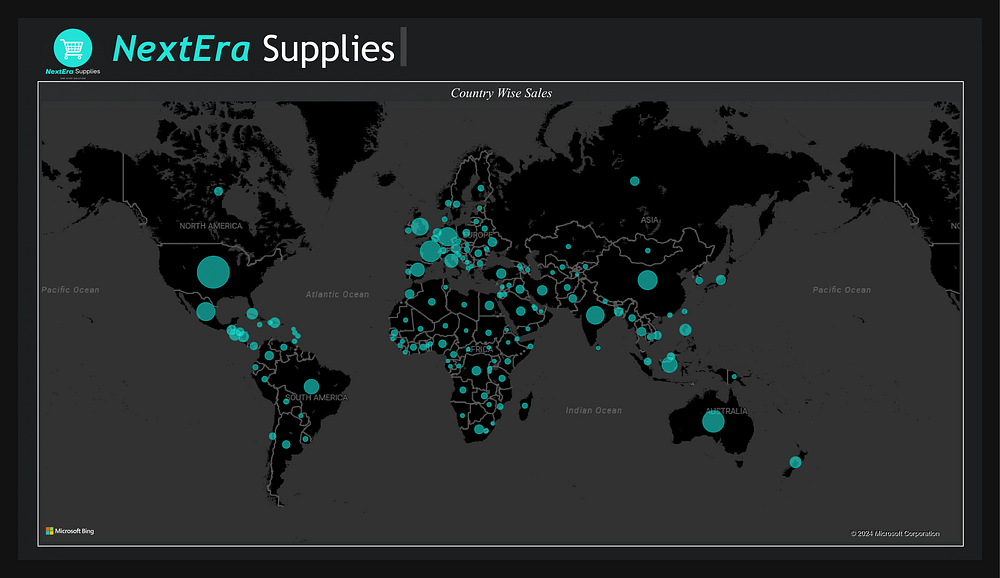

The page's visual inventory and layout, read from the dashboard file:
{"tool":"powerbi","page":{"name":"Page 1","canvas":[1280,720],"ordinal":0},"visuals":[{"type":"textbox","box":[120,7,401,64],"z":0},{"type":"image","box":[26,0,94,96],"z":1000},{"type":"map","title":"Country Wise Sales","fields":{"Category":["Orders.Country"],"Size":["Sum(Orders.Sales)"]},"box":[25.9,84,1229.6,618.5],"z":2000}]}

Visuals, with their boxes in screenshot pixels (x1, y1, x2, y2), scaled from the page's 1280x720 canvas onto the 1000x578 screenshot:
textbox: [94,6,407,57]
image: [20,0,94,77]
"Country Wise Sales" map: [20,67,981,564]
